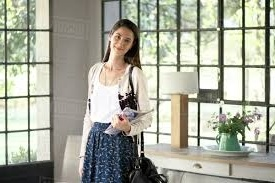not_fallen: (79, 17, 159, 183)
